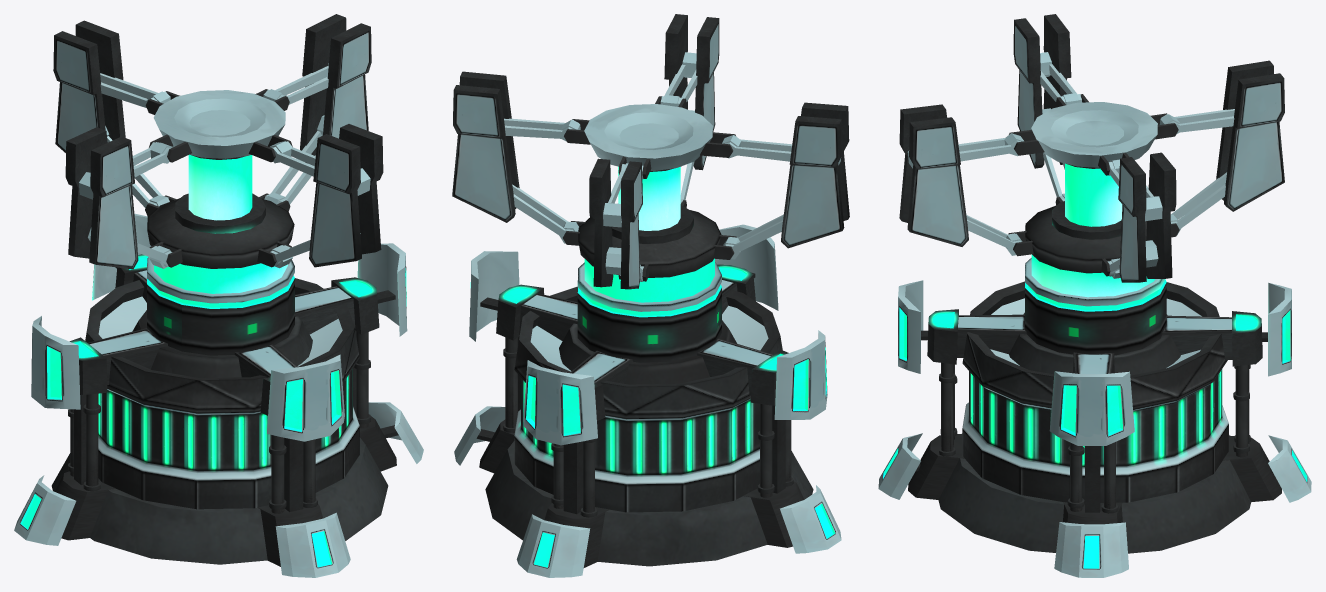
File: shield_generator.fbx
3 renders of one model, left to right at view 1: azimuth 30°, elevation 25°; view 2: azimuth 150°, elevation 25°; view 3: azimuth 270°, elevation 25°, orthographic. The views are drawn at different scales.
Visible parts, largest first — view 1: Shield_generator:group30_Shield_generator:group29_Shield_gen, Shield_generator:pCylinder1, Shield_generator:polySurface1, Shield_generator:polySurface7 (×4), Shield_generator:polySurface8 (×3), Shield_generator:polySurface6 (×3), Shield_generator:polySurface3 (×3), Shield_generator:pCylinder3, Shield_generator:polySurface5 (×2), Shield_generator:polySurface4 (×2), Shield_generator:pCylinder11 (×2), Shield_generator:pCylinder16 (×2); view 2: Shield_generator:group30_Shield_generator:group29_Shield_gen, Shield_generator:pCylinder1, Shield_generator:polySurface7 (×4), Shield_generator:polySurface1, Shield_generator:polySurface8 (×3), Shield_generator:polySurface6 (×3), Shield_generator:polySurface3 (×3), Shield_generator:polySurface5 (×3), Shield_generator:pCylinder3, Shield_generator:polySurface4 (×2), Shield_generator:pCylinder16 (×2), Shield_generator:pCylinder11 (×2); view 3: Shield_generator:group30_Shield_generator:group29_Shield_gen, Shield_generator:pCylinder1, Shield_generator:polySurface1, Shield_generator:polySurface7 (×3), Shield_generator:polySurface8 (×3), Shield_generator:polySurface6 (×3), Shield_generator:polySurface3 (×3), Shield_generator:pCylinder3, Shield_generator:polySurface5 (×2), Shield_generator:pCylinder16 (×2), Shield_generator:pCylinder11 (×2), Shield_generator:polySurface4.
Part boxes in pixels (x1,y1,x2,y2): Shield_generator:group30_Shield_generator:group29_Shield_gen: (53,14,383,355); Shield_generator:pCylinder1: (85,278,359,509); Shield_generator:polySurface1: (51,437,388,564); Shield_generator:polySurface7 (×4): (31,213,407,441); Shield_generator:polySurface8 (×3): (14,402,423,577); Shield_generator:polySurface6 (×3): (88,286,355,384); Shield_generator:polySurface3 (×3): (55,416,396,566); Shield_generator:pCylinder3: (132,310,312,377); Shield_generator:polySurface5 (×2): (69,277,379,394); Shield_generator:polySurface4 (×2): (74,394,303,512); Shield_generator:pCylinder11 (×2): (271,331,368,513); Shield_generator:pCylinder16 (×2): (86,393,315,503); Shield_generator:group30_Shield_generator:group29_Shield_gen: (452,14,849,362); Shield_generator:pCylinder1: (514,286,782,512); Shield_generator:polySurface7 (×4): (469,224,827,445); Shield_generator:polySurface1: (485,441,813,566); Shield_generator:polySurface8 (×3): (454,406,841,577); Shield_generator:polySurface6 (×3): (519,293,773,394); Shield_generator:polySurface3 (×3): (479,419,804,567); Shield_generator:polySurface5 (×3): (496,264,788,405); Shield_generator:pCylinder3: (559,320,736,384); Shield_generator:polySurface4 (×2): (563,405,785,514); Shield_generator:pCylinder16 (×2): (505,337,594,512); Shield_generator:pCylinder11 (×2): (553,404,772,508); Shield_generator:group30_Shield_generator:group29_Shield_gen: (899,14,1284,355); Shield_generator:pCylinder1: (962,281,1228,502); Shield_generator:polySurface1: (938,435,1251,553); Shield_generator:polySurface7 (×3): (898,280,1291,445); Shield_generator:polySurface8 (×3): (878,433,1311,577); Shield_generator:polySurface6 (×3): (957,314,1232,373); Shield_generator:polySurface3 (×3): (908,434,1281,524); Shield_generator:pCylinder3: (1009,312,1180,375); Shield_generator:polySurface5 (×2): (927,309,1262,366); Shield_generator:pCylinder16 (×2): (941,363,1115,508); Shield_generator:pCylinder11 (×2): (1070,365,1247,511); Shield_generator:polySurface4: (1085,446,1100,512).
Size of the model in its own units: 8.4 by 8.4 by 8.39.
Materials: 1 (1 with a texture image).
